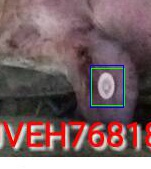text: (91, 68, 124, 105)
